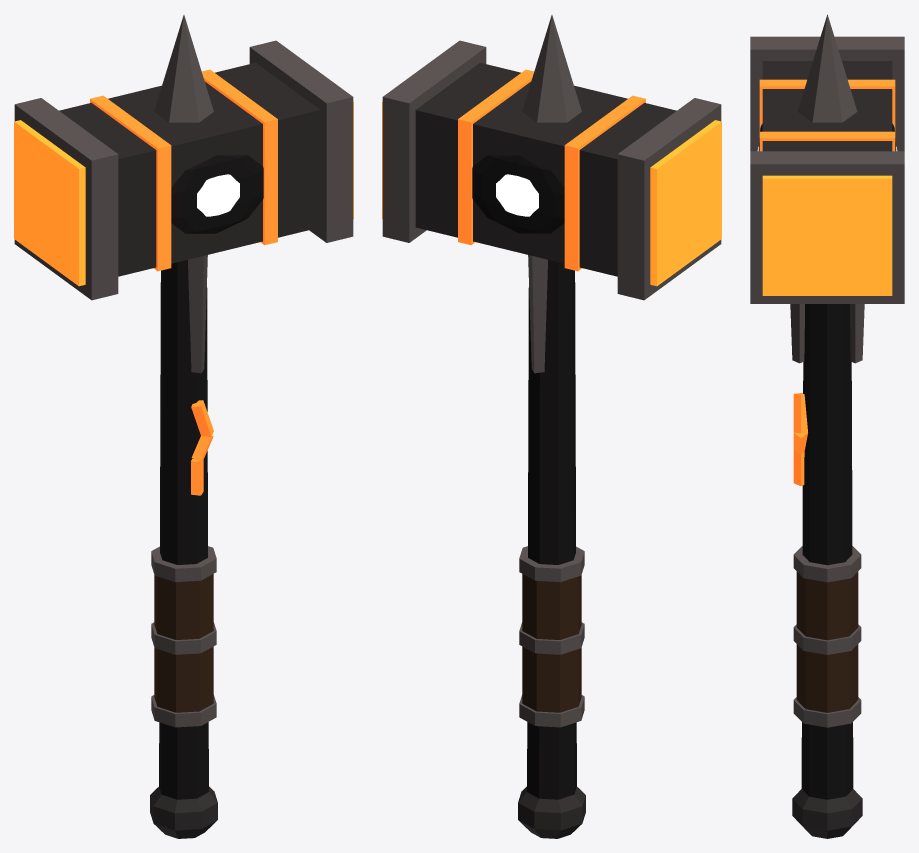
The model's file is court_maul.glb.
3 renders of one model, left to right at view 1: azimuth 30°, elevation 25°; view 2: azimuth 150°, elevation 25°; view 3: azimuth 270°, elevation 25°, orthographic.
Visible parts, largest first — view 1: court_maul; view 2: court_maul; view 3: court_maul.
Part boxes in pixels (x1,y1,x2,y2): court_maul: (14,15,353,838); court_maul: (382,15,721,838); court_maul: (750,14,904,838).
Size of the model in its own units: 0.515 by 1.47 by 0.25.
